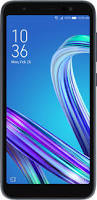asus: (1, 1, 97, 198)
